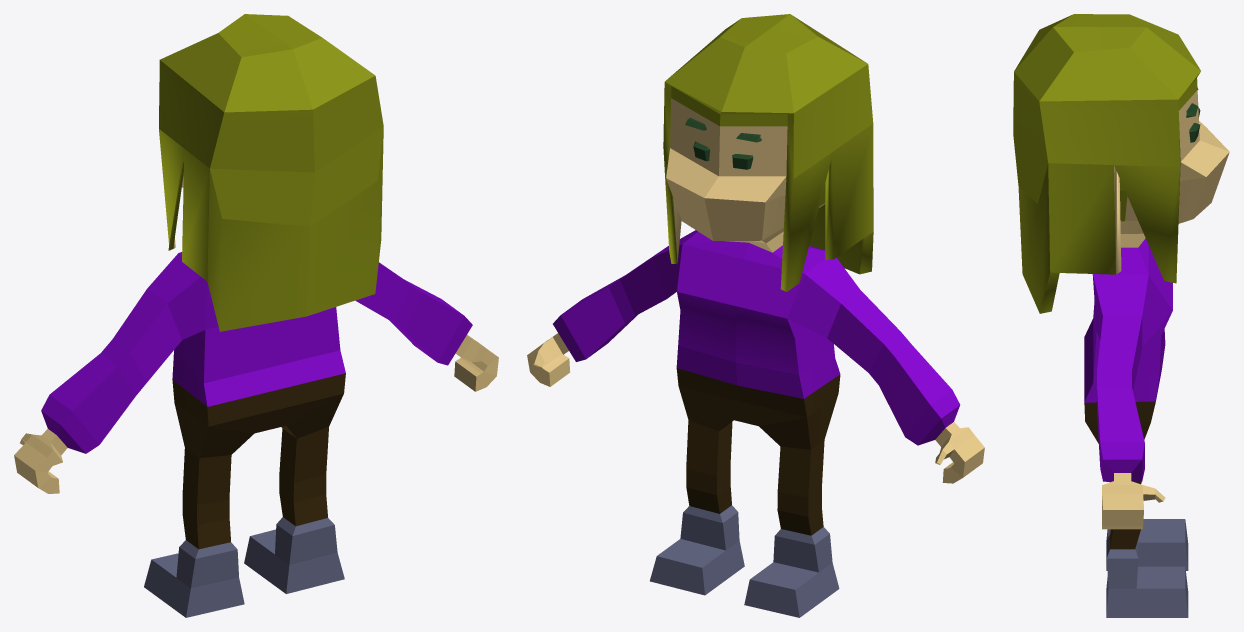
Rendered from NPC_girl.fbx.
The picture shows the model from 3 angles, left to right: view 1: azimuth 30°, elevation 25°; view 2: azimuth 150°, elevation 25°; view 3: azimuth 270°, elevation 25°; orthographic projection. The views are drawn at different scales.
Visible parts, largest first — view 1: Cube; view 2: Cube; view 3: Cube.
Part boxes in pixels (box(x1,y1,x2,y2)): Cube: box(14, 14, 498, 617); Cube: box(527, 14, 984, 617); Cube: box(1013, 14, 1229, 617).
Bounding box in the file's own units: 184 × 217 × 76.75.
